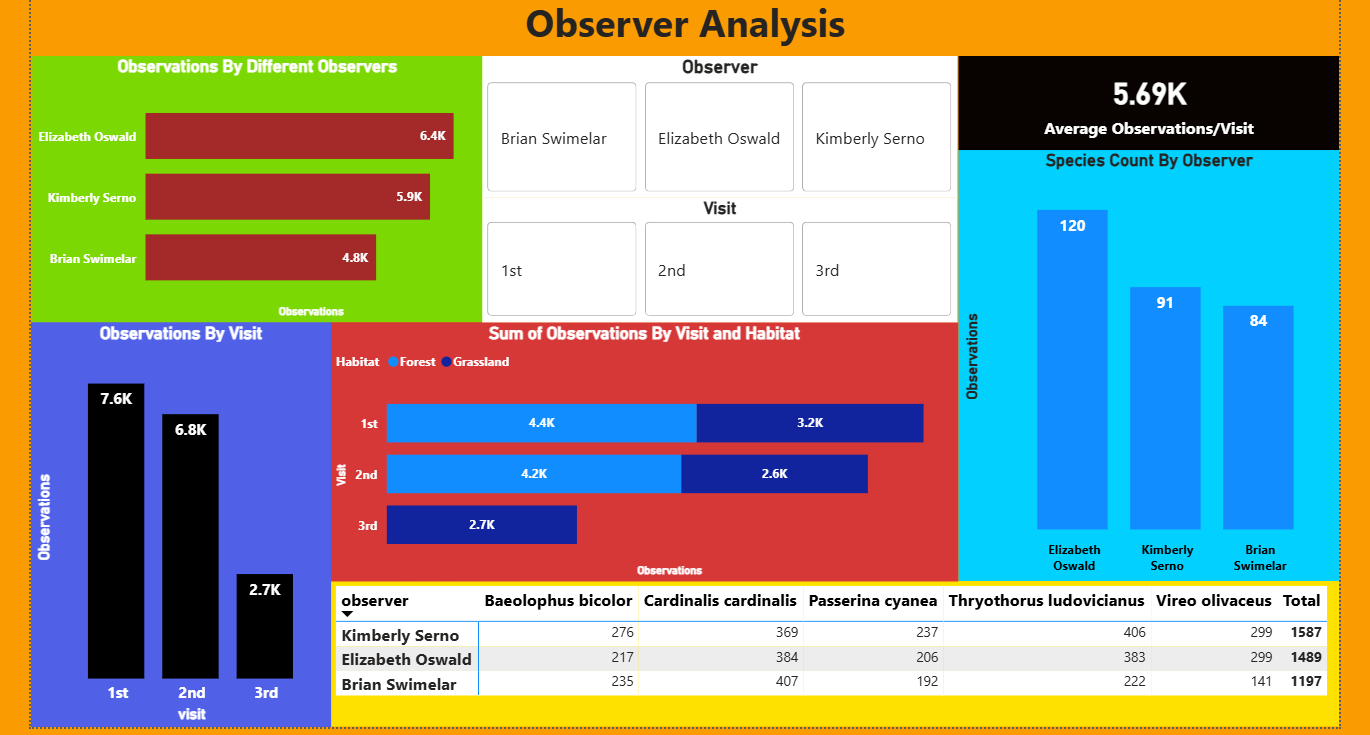

The dashboard page shown, as its layout file describes it:
{"tool":"powerbi","page":{"name":"Observer Analysis","canvas":[1280,720],"ordinal":5},"visuals":[{"type":"clusteredBarChart","title":"Observations By Different Observers","fields":{"Category":["observer_analysis.observer"],"Y":["Sum(observer_analysis.total_observations)"]},"box":[1.4,63.1,440.5,260.7],"z":0},{"type":"clusteredColumnChart","title":"Species Count By Observer","fields":{"Category":["unique_species_observer.observer"],"Y":["Sum(unique_species_observer.species_count)"]},"box":[907,155.1,373.2,422.6],"z":1000},{"type":"pivotTable","fields":{"Rows":["observer_top_species.observer"],"Columns":["observer_top_species.scientific_name"],"Values":["Sum(observer_top_species.observations)"]},"box":[293.7,577.7,986.6,142.7],"z":2000},{"type":"columnChart","title":"Observations By Visit","fields":{"Category":["observation_by_visits.visit"],"Y":["Sum(observation_by_visits.total_observations)"]},"box":[0,323.8,293.7,396.6],"z":3000},{"type":"barChart","title":"Sum of Observations By Visit and Habitat","fields":{"Category":["visit_vs_habitat.visit"],"Y":["Sum(visit_vs_habitat.observations)"],"Series":["visit_vs_habitat.habitat"]},"box":[293.7,323.8,613.4,253.9],"z":4000},{"type":"card","fields":{"Values":["Sum(observation_per_visit.avg_obs_per_visit)"]},"box":[907,63.1,373.2,91.9],"z":5000},{"type":"advancedSlicerVisual","title":"Observer","fields":{"Values":["observer_analysis.observer"]},"box":[441.9,63.1,465.2,138.6],"z":6000},{"type":"advancedSlicerVisual","title":"Visit","fields":{"Values":["observation_by_visits.visit"]},"box":[441.9,201.7,465.2,122.1],"z":7000},{"type":"textbox","box":[0,0,1280.3,63.1],"z":8000}]}

Visuals, with their boxes on the page's 1280x720 design canvas (x1, y1, x2, y2). These are canvas units, not pixel positions in the 1370x735 screenshot, which may show the page scaled, cropped or inside an application window:
"Observations By Different Observers" clusteredBarChart: (1,63,442,324)
"Species Count By Observer" clusteredColumnChart: (907,155,1280,578)
pivotTable - observer_top_species.observer x observer_top_species.scientific_name: (294,578,1280,720)
"Observations By Visit" columnChart: (0,324,294,720)
"Sum of Observations By Visit and Habitat" barChart: (294,324,907,578)
card - Sum(observation_per_visit.avg_obs_per_visit): (907,63,1280,155)
"Observer" advancedSlicerVisual: (442,63,907,202)
"Visit" advancedSlicerVisual: (442,202,907,324)
textbox: (0,0,1280,63)
